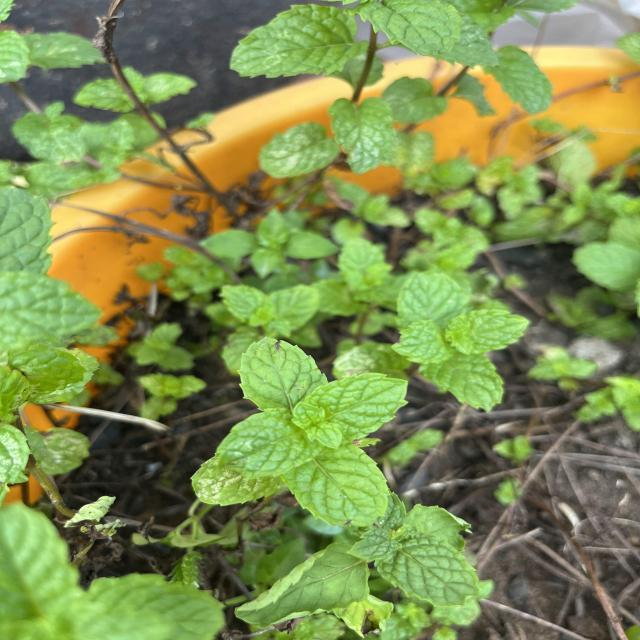Mentha spicata: (278, 444, 392, 528), (373, 532, 481, 610), (299, 371, 410, 444), (214, 408, 323, 481), (236, 336, 329, 410)
